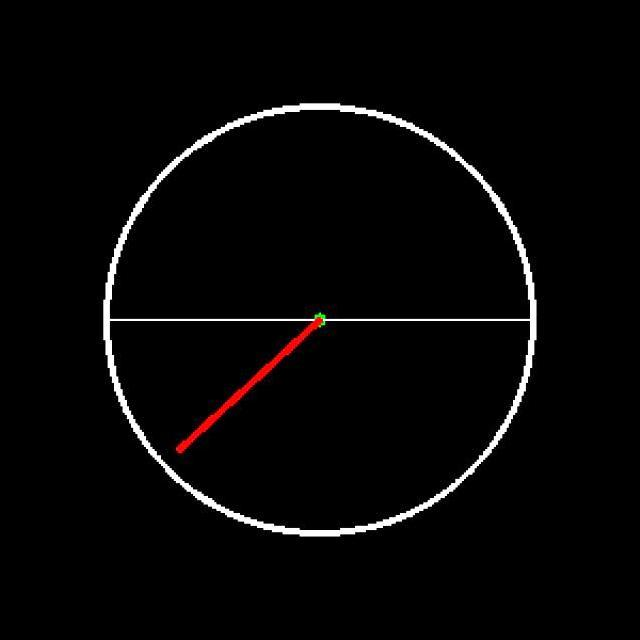Needle_Tip: (159, 419, 201, 465)
Needle_base: (283, 280, 356, 342)
